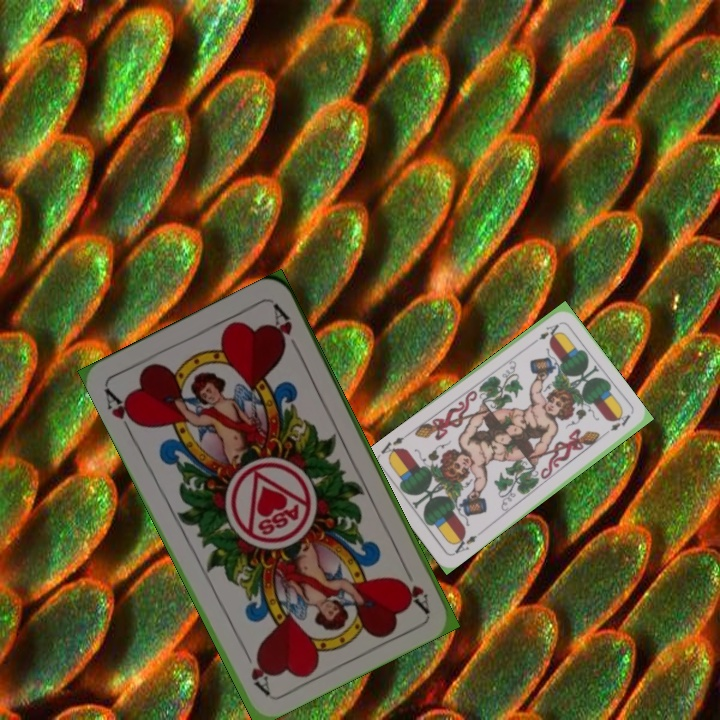EA: (449, 528, 484, 557), (535, 320, 562, 342)
HA: (99, 384, 142, 438), (397, 560, 432, 615)
